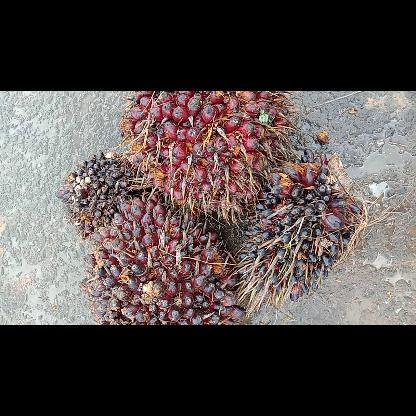Kurang masak: (84, 191, 246, 324)
TBS abnormal: (237, 150, 363, 302), (54, 152, 140, 236)
TBS masak: (120, 91, 290, 215)
